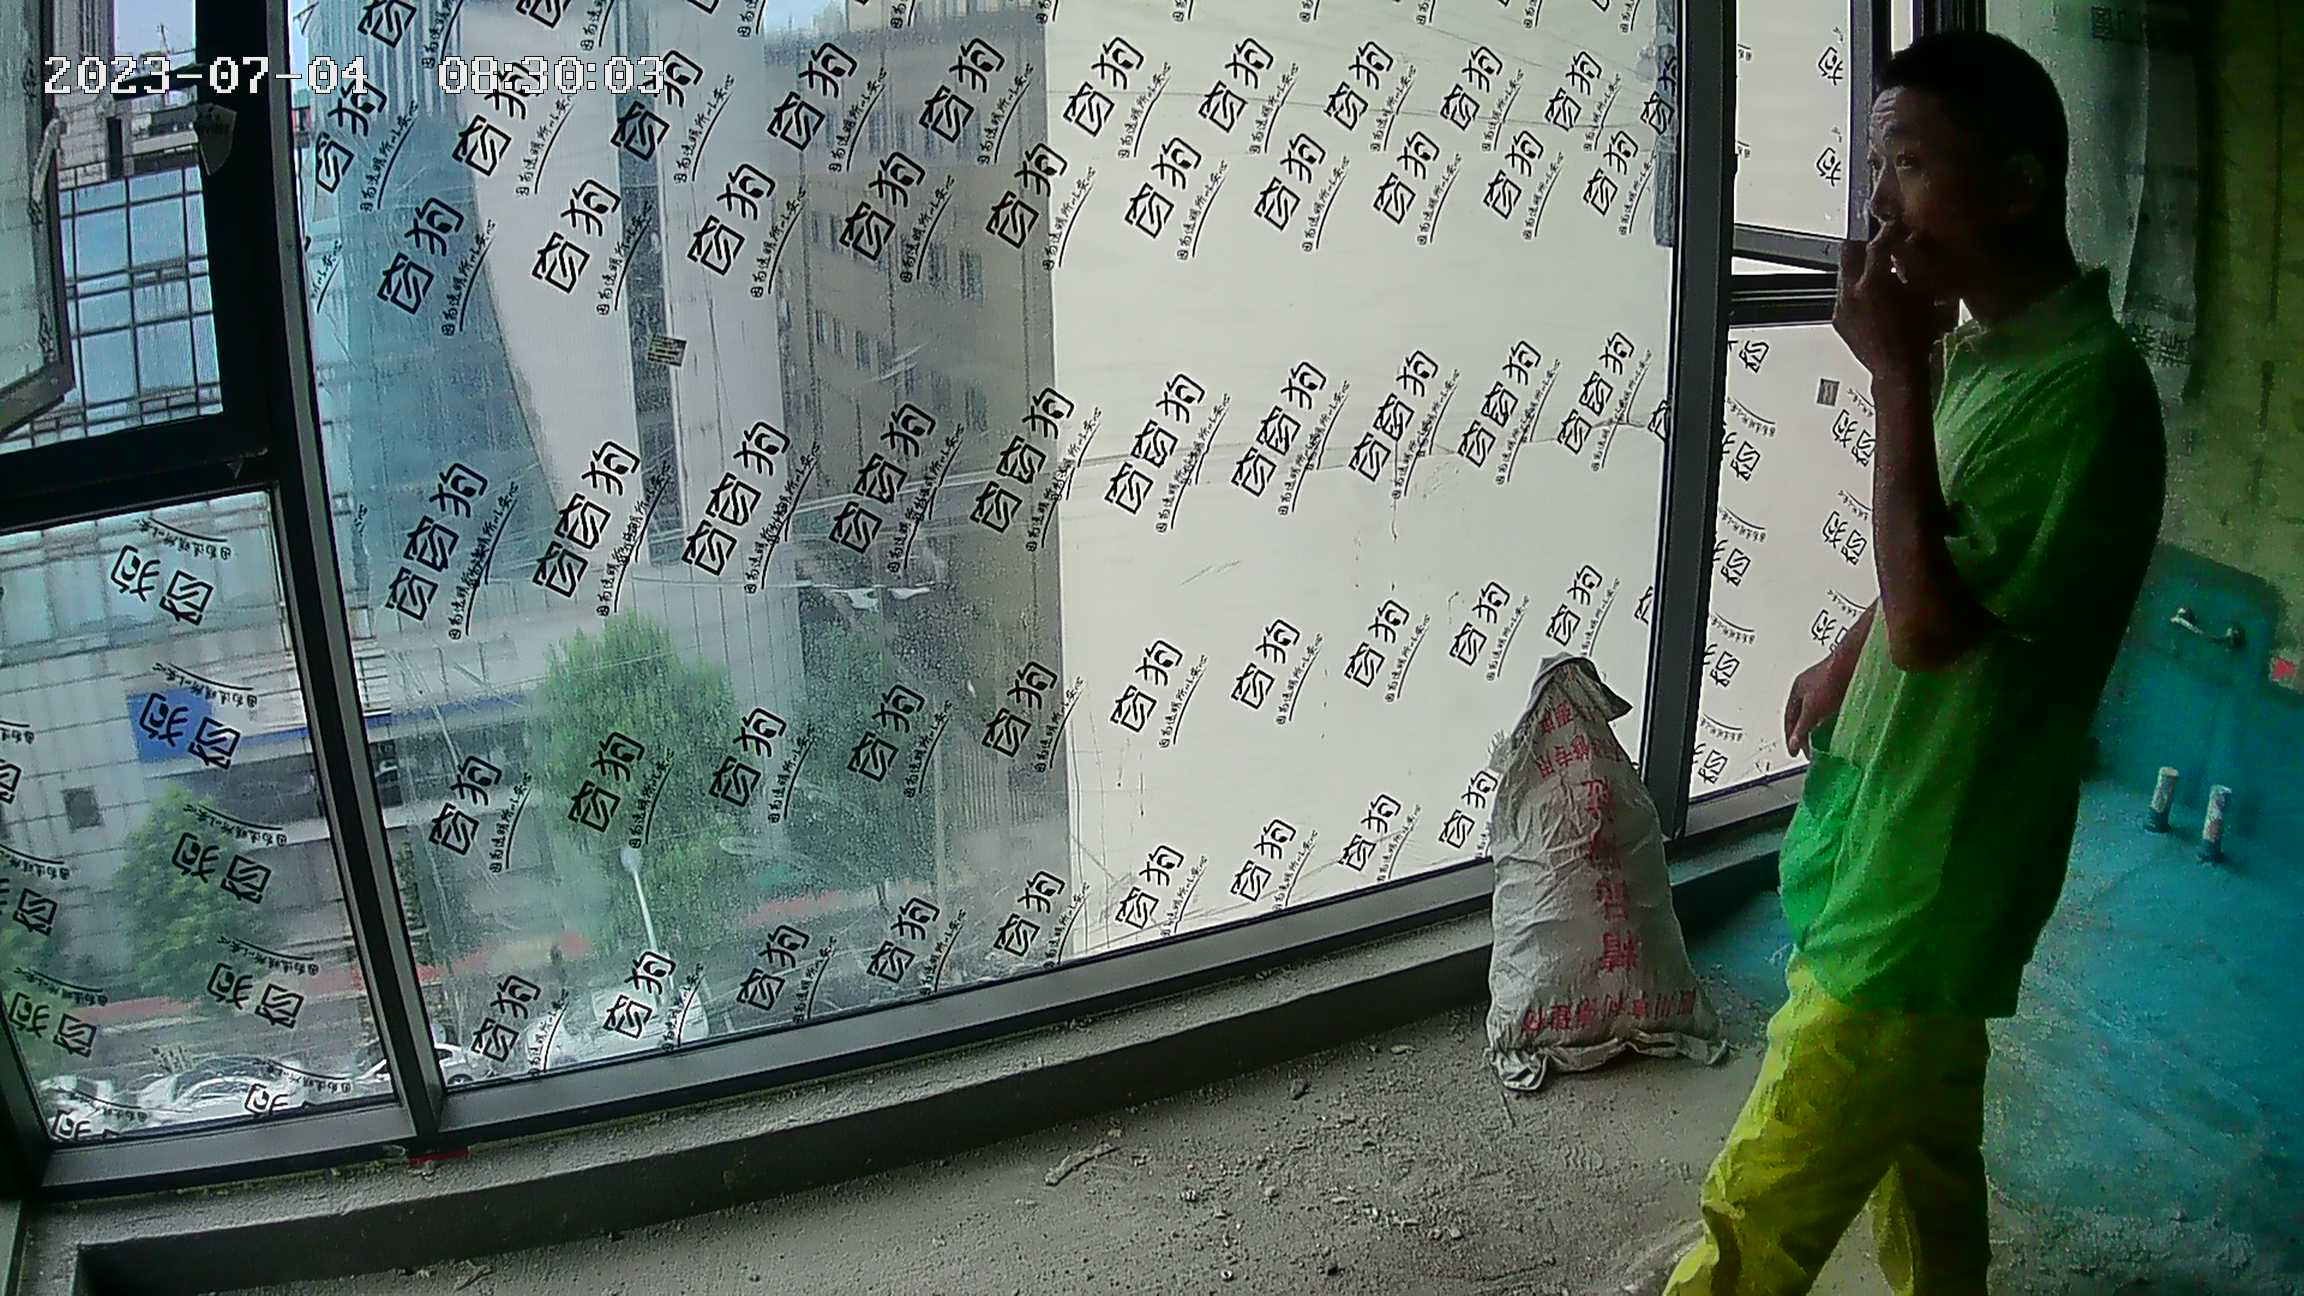people: (1683, 33, 2172, 1296)
window: (64, 1, 2036, 1160)
